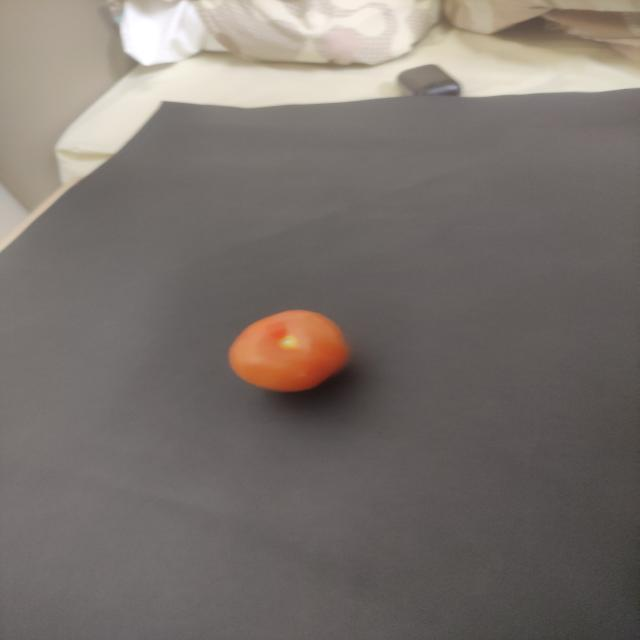sari: (214, 298, 358, 402)
